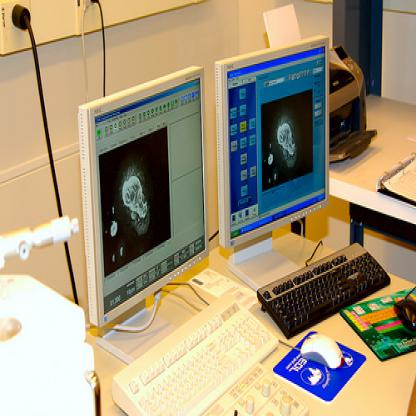tvmonitor: (77, 64, 210, 364), (215, 33, 330, 294)
